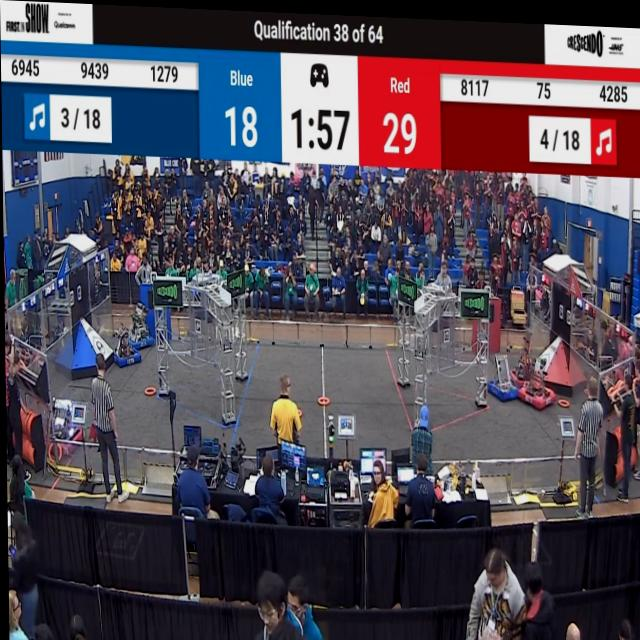Robot: (517, 333, 565, 410), (44, 386, 86, 459), (512, 317, 538, 384), (487, 342, 516, 401), (109, 316, 138, 370), (126, 300, 153, 350)
